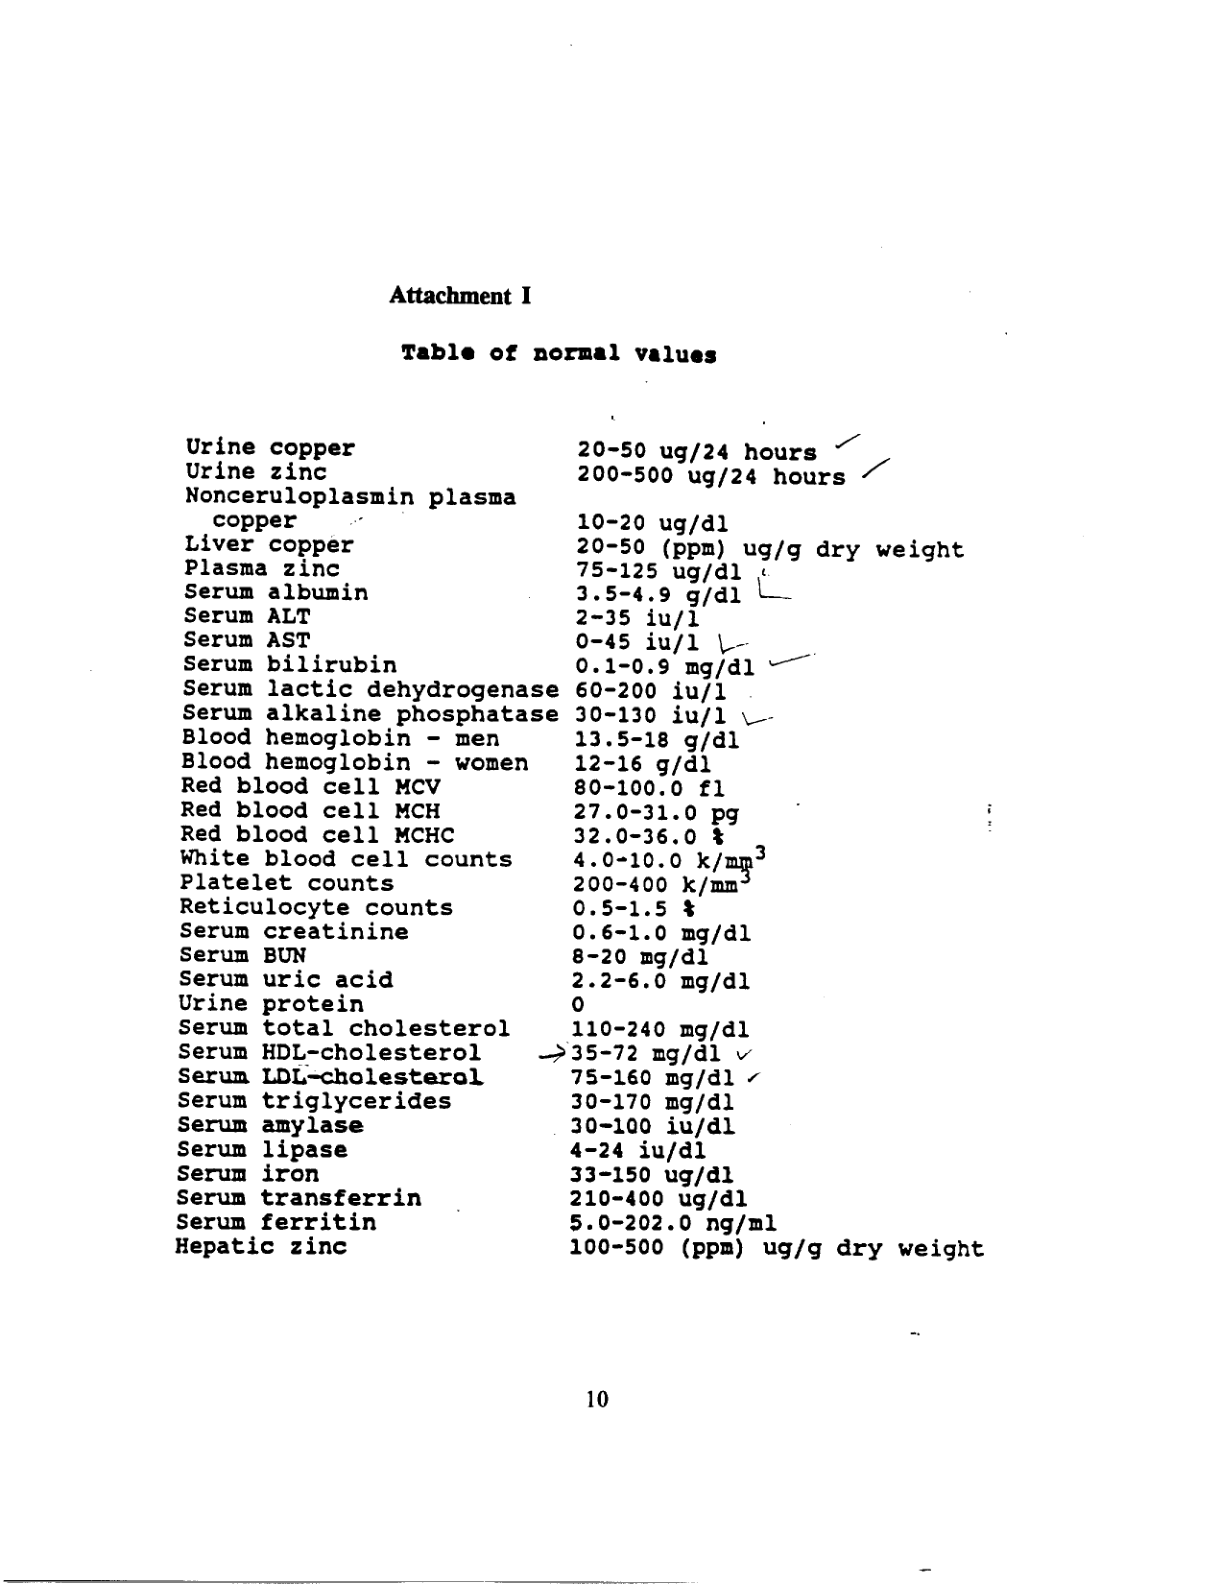nolines: (172, 432, 991, 1267)
